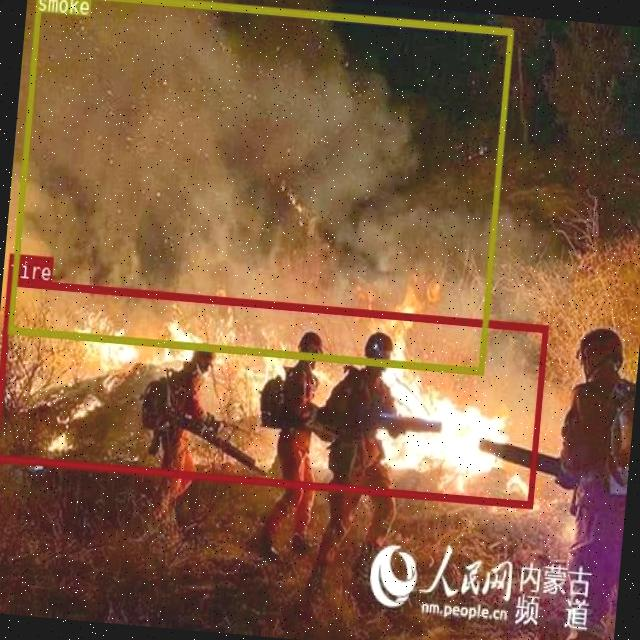fire: (0, 278, 547, 507)
smoke: (6, 0, 512, 373)
